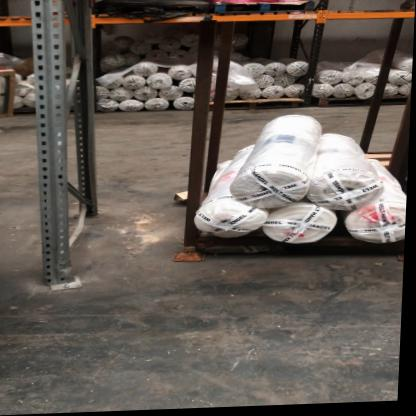vertical_damage: (39, 250, 89, 294)
